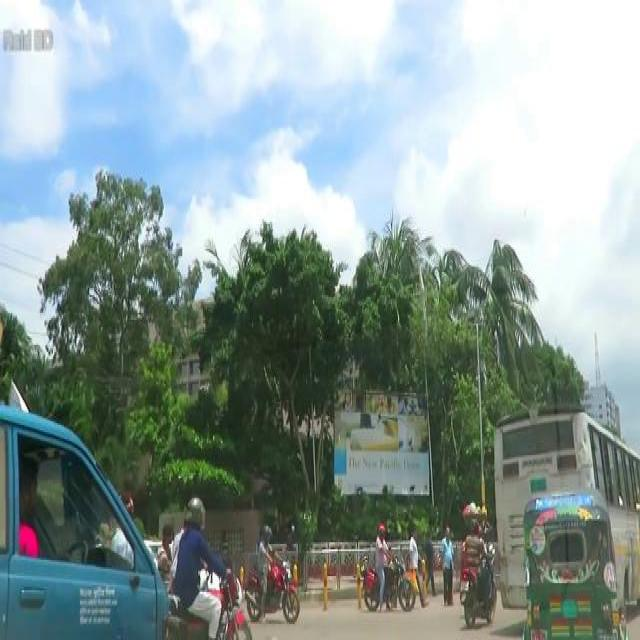bike: (244, 524, 303, 627), (361, 522, 417, 611), (459, 517, 497, 631)
vehicle: (519, 486, 632, 640), (493, 405, 640, 507)
